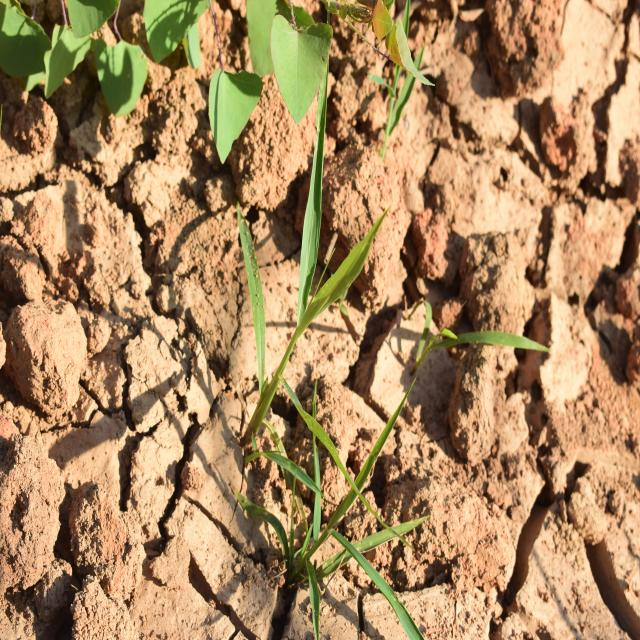green_foxtail: (222, 163, 412, 459), (251, 402, 434, 611)
